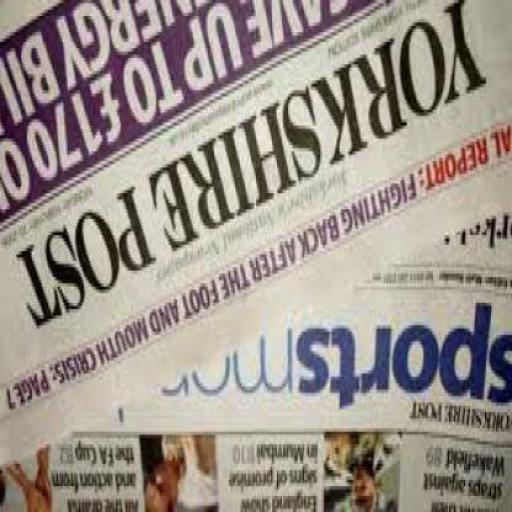paper: (2, 4, 511, 476), (1, 212, 511, 510)
